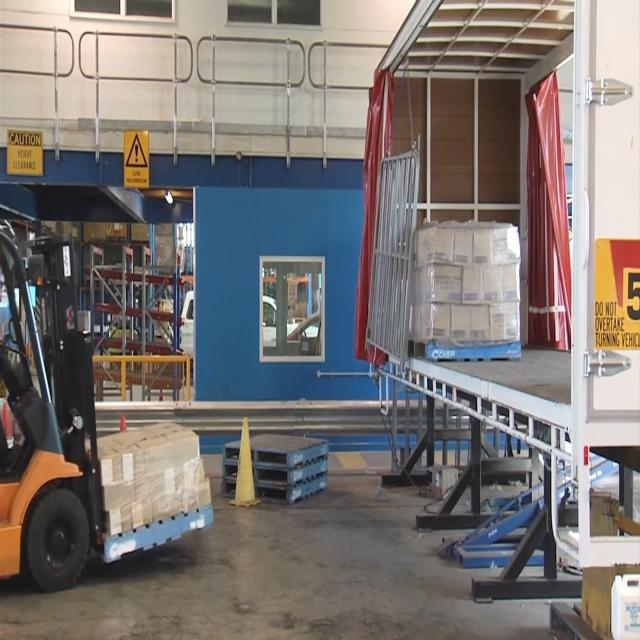box: (85, 396, 219, 547), (400, 206, 532, 347)
forklift: (0, 194, 224, 626)
pallets: (95, 484, 236, 580), (218, 416, 337, 515), (421, 326, 531, 375)
